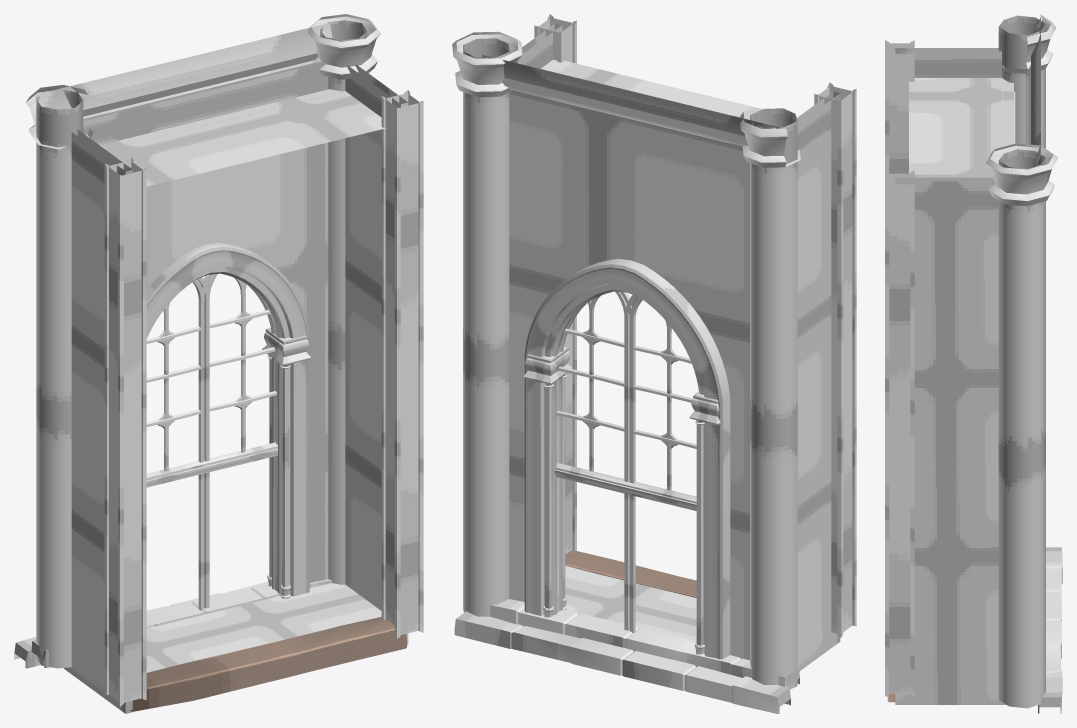
The model's file is SM_GeneralS_Gate.fbx.
3 renders of one model, left to right at view 1: azimuth 30°, elevation 25°; view 2: azimuth 150°, elevation 25°; view 3: azimuth 270°, elevation 25°, orthographic. The views are drawn at different scales.
Visible parts, largest first — view 1: SM_GeneralS_Gate_LOD0; view 2: SM_GeneralS_Gate_LOD0; view 3: SM_GeneralS_Gate_LOD0.
Part boxes in pixels (left/top/right/bottom): SM_GeneralS_Gate_LOD0: left=14, top=14, right=423, bottom=713; SM_GeneralS_Gate_LOD0: left=452, top=14, right=856, bottom=713; SM_GeneralS_Gate_LOD0: left=885, top=14, right=1062, bottom=713.
Bounding box in the file's own units: 595 × 279 × 954.
